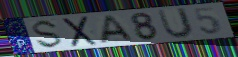5: (192, 7, 224, 36)
8: (129, 12, 161, 42)
A: (98, 14, 137, 45)
S: (32, 18, 65, 49)
U: (156, 7, 196, 40)
X: (61, 15, 99, 49)
